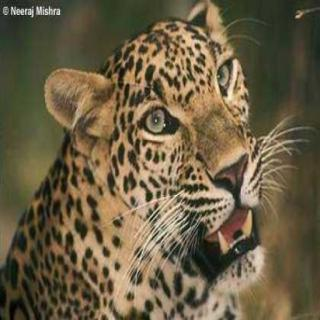Leopard: (32, 8, 288, 320)
